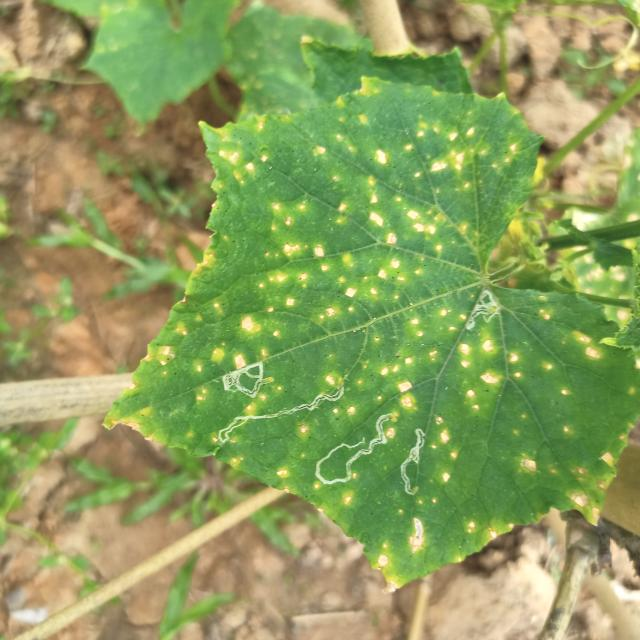disease_cucumber: (181, 302, 607, 576), (125, 97, 525, 367)
